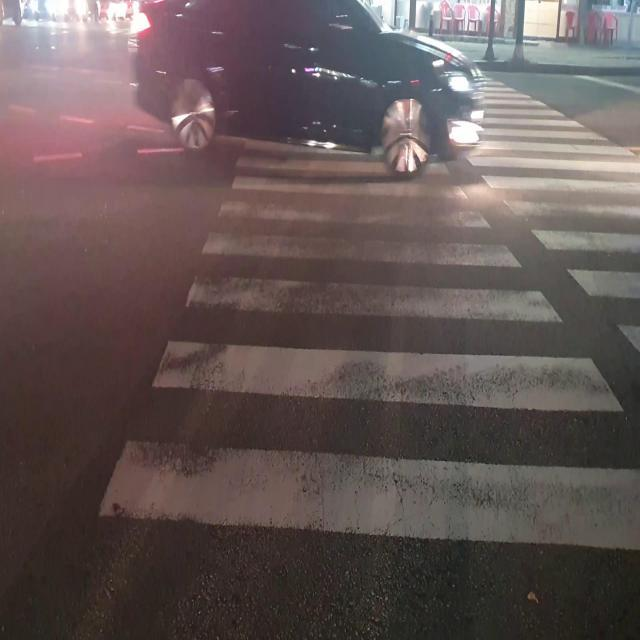crosswalk: (95, 62, 640, 552)
